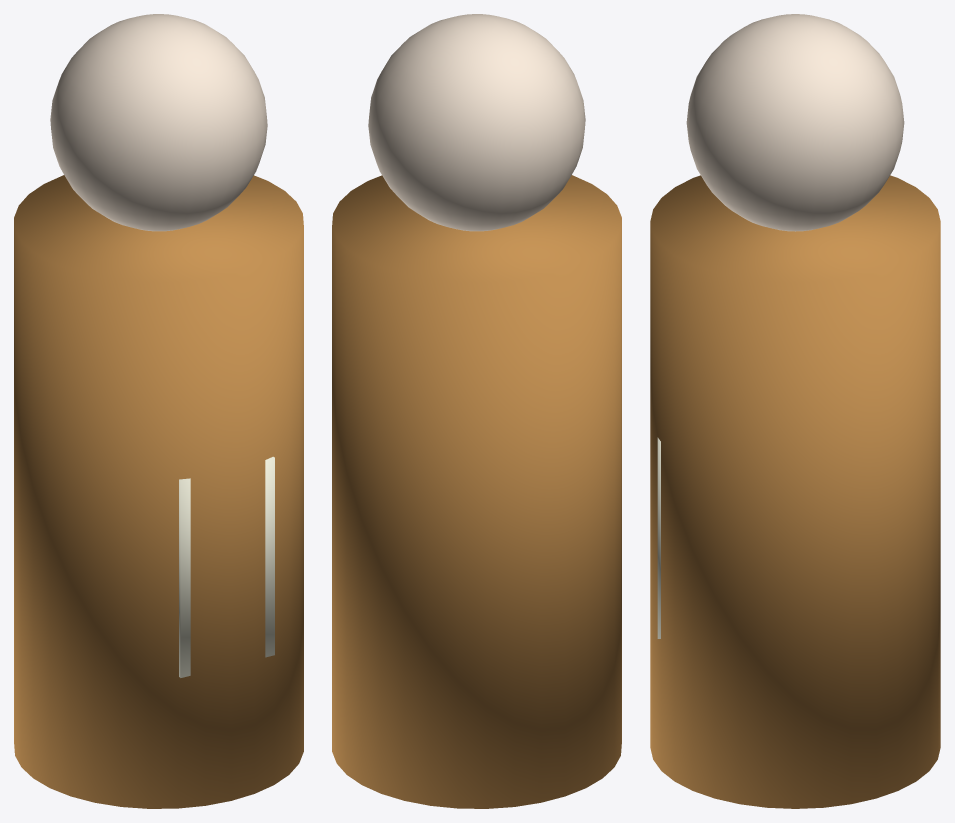
Rendered from furrier.glb.
3 views of the same model, side by side, from view 1: azimuth 30°, elevation 25°; view 2: azimuth 150°, elevation 25°; view 3: azimuth 270°, elevation 25° (orthographic).
Visible parts, largest first — view 1: Body, Head, Apron; view 2: Body, Head; view 3: Body, Head, Apron.
Boxes of the visible parts, x1,y1,x2,y2 form: Body: (14,175,303,808); Head: (50,14,267,231); Apron: (179,456,274,677); Body: (332,175,621,808); Head: (368,14,585,231); Body: (650,175,940,808); Head: (686,14,904,231); Apron: (657,437,660,638).
Size of the model in its own units: 0.4 by 1.1 by 0.4.
